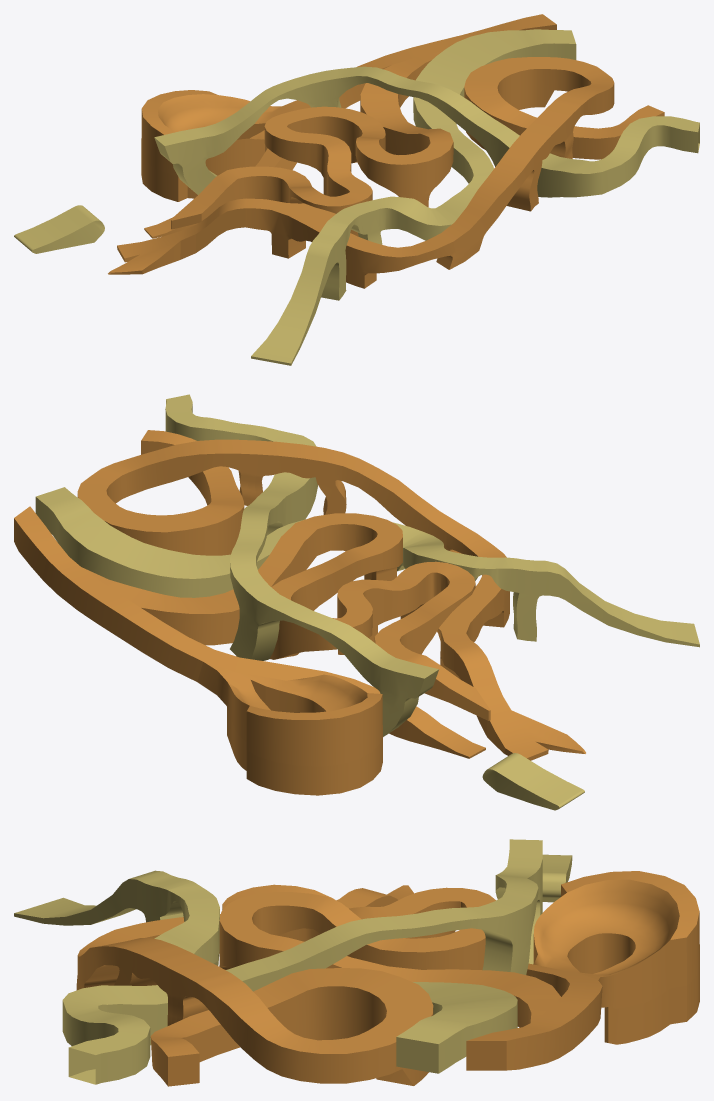
The model's file is skatepark.fbx.
3 views of the same model, one above another, from view 1: azimuth 30°, elevation 25°; view 2: azimuth 150°, elevation 25°; view 3: azimuth 270°, elevation 25° (orthographic). The views are drawn at different scales.
Parts seen in each view (by area): view 1: ramp_03, bendy, ramp_04, main_platform_02, loop, main_platform_01, landing_ramp; view 2: ramp_03, bendy, ramp_04, loop, main_platform_02, main_platform_01, landing_ramp; view 3: ramp_03, main_platform_02, loop, bendy, ramp_04, main_platform_01, landing_ramp.
Part boxes in pixels (<box>): ramp_03: <box>108,57,664,288</box>; bendy: <box>171,50,453,236</box>; ramp_04: <box>251,29,576,365</box>; main_platform_02: <box>154,66,699,197</box>; loop: <box>141,90,301,201</box>; main_platform_01: <box>144,14,556,238</box>; landing_ramp: <box>14,205,104,253</box>; ramp_03: <box>77,430,585,760</box>; bendy: <box>82,513,490,720</box>; ramp_04: <box>35,487,699,647</box>; loop: <box>197,662,382,795</box>; main_platform_02: <box>165,394,438,736</box>; main_platform_01: <box>14,506,485,758</box>; landing_ramp: <box>482,753,584,810</box>; ramp_03: <box>76,885,433,1086</box>; main_platform_02: <box>62,839,542,1084</box>; loop: <box>533,871,699,1044</box>; bendy: <box>219,884,560,1027</box>; ramp_04: <box>14,870,517,1073</box>; main_platform_01: <box>466,963,602,1070</box>; landing_ramp: <box>542,854,572,902</box>.
Size of the model in its own units: 12299 by 2892 by 9987.
